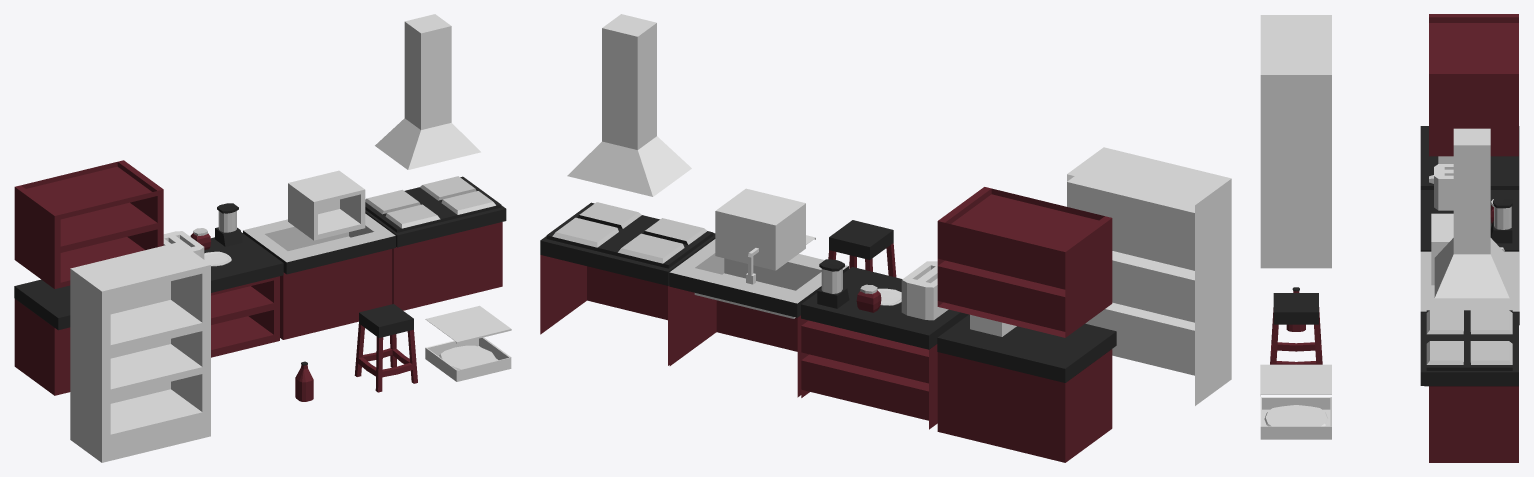
File: kitchen.fbx
The picture shows the model from 3 angles, left to right: view 1: azimuth 30°, elevation 25°; view 2: azimuth 150°, elevation 25°; view 3: azimuth 270°, elevation 25°; orthographic projection. The views are drawn at different scales.
Visible parts, largest first — view 1: fridge, counterbase.004, counterbase.003, counterbase.002, stovechimney, counterbase.001, counterbase, microwave, stool, pizzalid, pizzabox, pizza (+3 smaller); view 2: fridge, counterbase.004, counterbase, counterbase.001, counterbase.003, counterbase.002, stovechimney, microwave, stool, toaster, blender; view 3: fridge, counterbase.003, counterbase.004, stovechimney, stool, counterbase.002, pizzalid, pizzabox, counterbase, counterbase.001, pizza, toaster (+2 smaller).
Part boxes in pixels (<box>): fridge: <box>70,242,210,462</box>; counterbase.004: <box>14,160,163,288</box>; counterbase.003: <box>365,176,506,310</box>; counterbase.002: <box>243,213,395,339</box>; stovechimney: <box>375,14,480,169</box>; counterbase.001: <box>204,232,283,357</box>; counterbase: <box>14,279,70,395</box>; microwave: <box>288,170,365,240</box>; stool: <box>354,304,417,392</box>; pizzalid: <box>425,305,511,343</box>; pizzabox: <box>425,337,511,381</box>; pizza: <box>439,345,496,370</box>; fridge: <box>1067,147,1231,405</box>; counterbase.004: <box>937,187,1112,337</box>; counterbase: <box>937,314,1116,462</box>; counterbase.001: <box>801,267,968,429</box>; counterbase.003: <box>540,202,715,365</box>; counterbase.002: <box>669,239,848,397</box>; stovechimney: <box>567,14,691,196</box>; microwave: <box>715,188,805,270</box>; stool: <box>828,220,896,277</box>; toaster: <box>901,261,948,320</box>; blender: <box>817,259,849,308</box>; fridge: <box>1260,15,1331,268</box>; counterbase.003: <box>1420,310,1518,462</box>; counterbase.004: <box>1429,14,1518,156</box>; stovechimney: <box>1434,128,1509,298</box>; stool: <box>1270,293,1322,364</box>; counterbase.002: <box>1420,251,1519,325</box>; pizzalid: <box>1260,364,1331,396</box>; pizzabox: <box>1260,397,1331,439</box>; counterbase: <box>1420,126,1519,189</box>; counterbase.001: <box>1420,190,1519,251</box>; pizza: <box>1264,405,1327,426</box>; toaster: <box>1429,164,1453,210</box>.
Bounding box in the file's own units: 1742 × 959 × 729.
